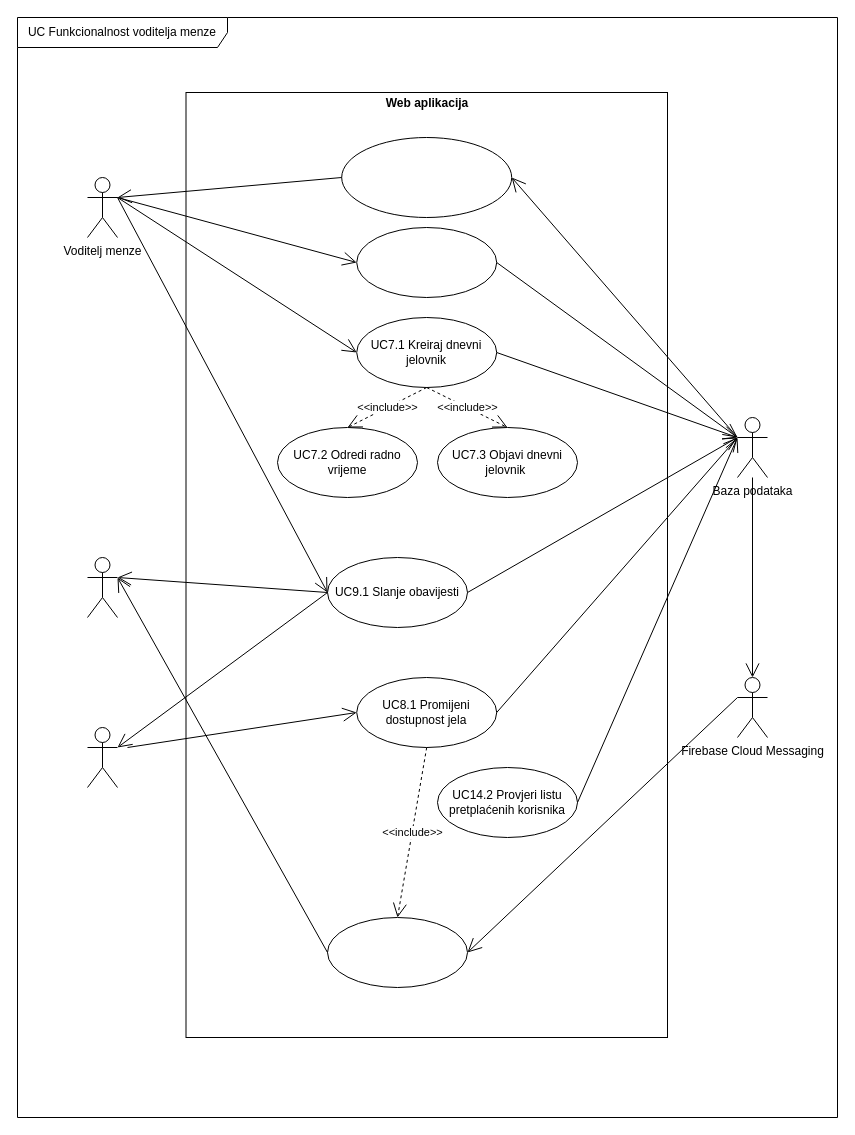
Some shapes in this 855 by 1135 pixel diagram are drawn without their labels. The box of each missing label's shape, as (x1, y1, x2, y2) in pixels:
Radnik: (86, 726, 118, 788)
Student: (86, 556, 118, 618)
UC11.1 Pregled popularnosti jela: (356, 226, 497, 298)
UC5.2 Dodjela ovlasti voditelju menze: (341, 136, 512, 218)
UC8.3 Obavijest pretplaćenim studentima: (326, 916, 468, 988)
